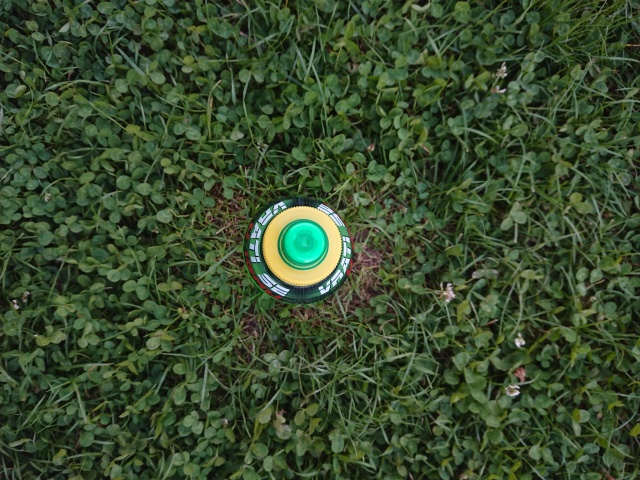Vindi Iso Sport Lemon-Grapefruit 500mL: (238, 193, 357, 308)
